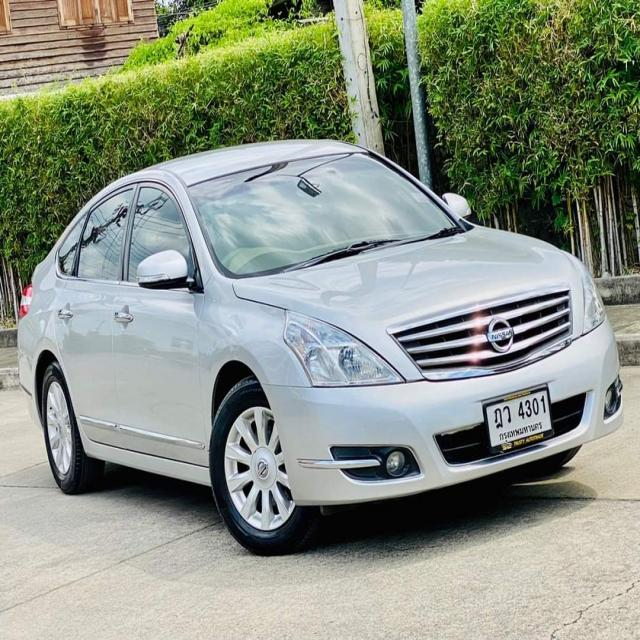car: (16, 138, 625, 557)
license_plate: (482, 387, 554, 453)
plate_number: (494, 395, 546, 429)
province: (499, 421, 542, 442)
